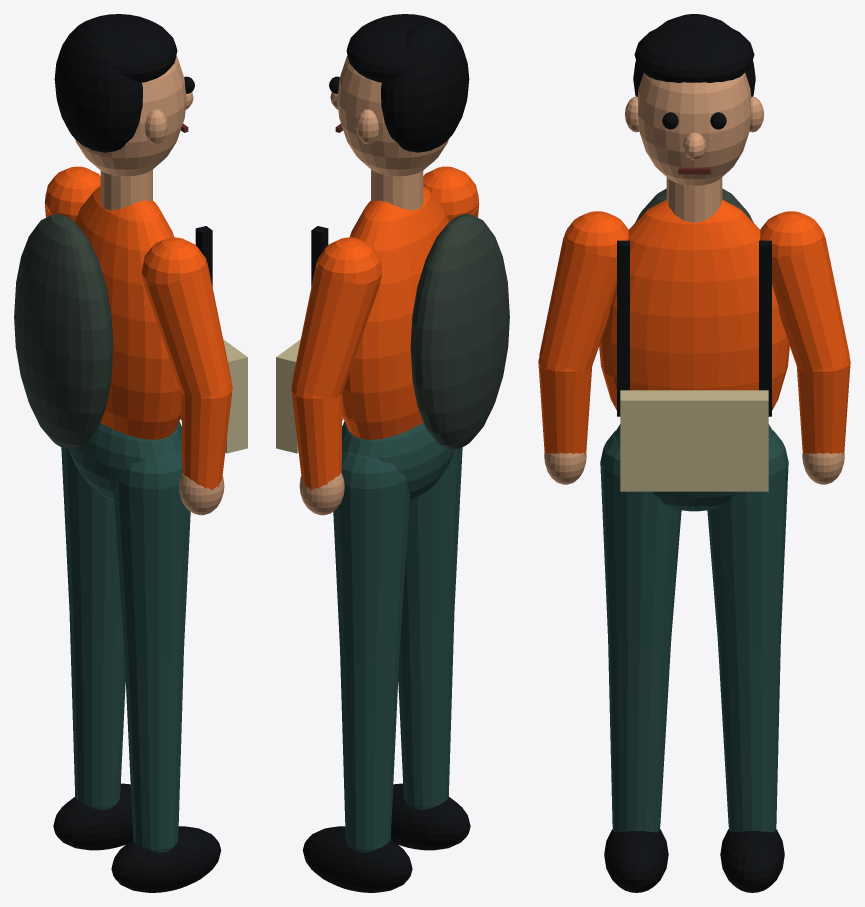
File: person_07.dae
3 views of the same model, side by side, from view 1: azimuth 30°, elevation 25°; view 2: azimuth 150°, elevation 25°; view 3: azimuth 270°, elevation 25° (orthographic).
Parts seen in each view (by area): view 1: part0node, part2node, part1node, part5node, part3node, part6node; view 2: part0node, part2node, part1node, part5node, part3node, part6node; view 3: part2node, part0node, part1node, part6node, part3node.
Boxes of the visible parts, bbox=[...] form: part0node: bbox=[61, 421, 190, 852]; part2node: bbox=[44, 166, 232, 489]; part1node: bbox=[53, 14, 221, 892]; part5node: bbox=[14, 214, 113, 449]; part3node: bbox=[75, 56, 224, 515]; part6node: bbox=[180, 339, 247, 453]; part0node: bbox=[333, 421, 462, 852]; part2node: bbox=[291, 166, 479, 489]; part1node: bbox=[302, 14, 470, 892]; part5node: bbox=[410, 214, 509, 449]; part3node: bbox=[299, 56, 448, 515]; part6node: bbox=[276, 339, 343, 453]; part2node: bbox=[538, 199, 850, 454]; part0node: bbox=[600, 424, 788, 832]; part1node: bbox=[604, 14, 784, 892]; part6node: bbox=[620, 390, 768, 491]; part3node: bbox=[544, 73, 844, 484].
Bounding box in the file's own units: 0.033 × 0.05 × 0.15.
